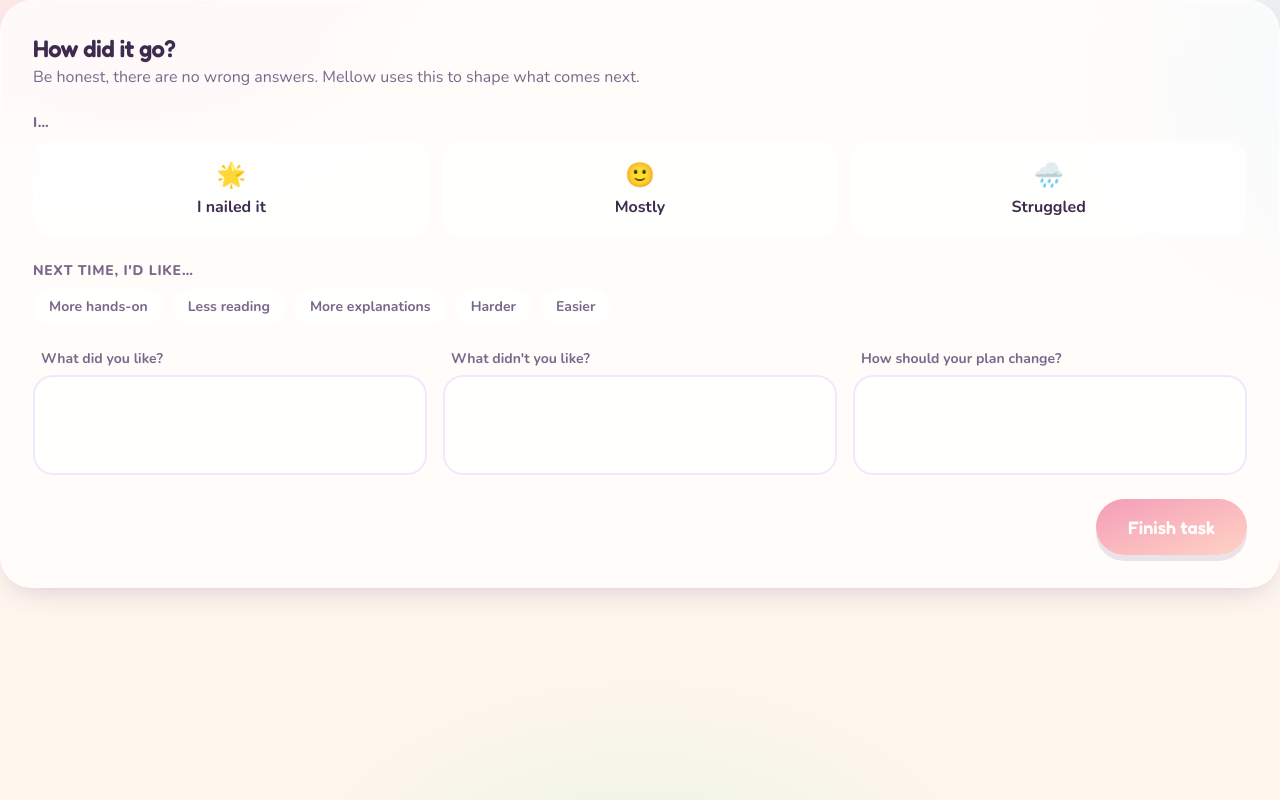
Test: ReflectionForm › toggles chips off again
Step 1. Click the button "Harder" → click(493, 307), box top-left (455, 289), bottom-right (532, 325)
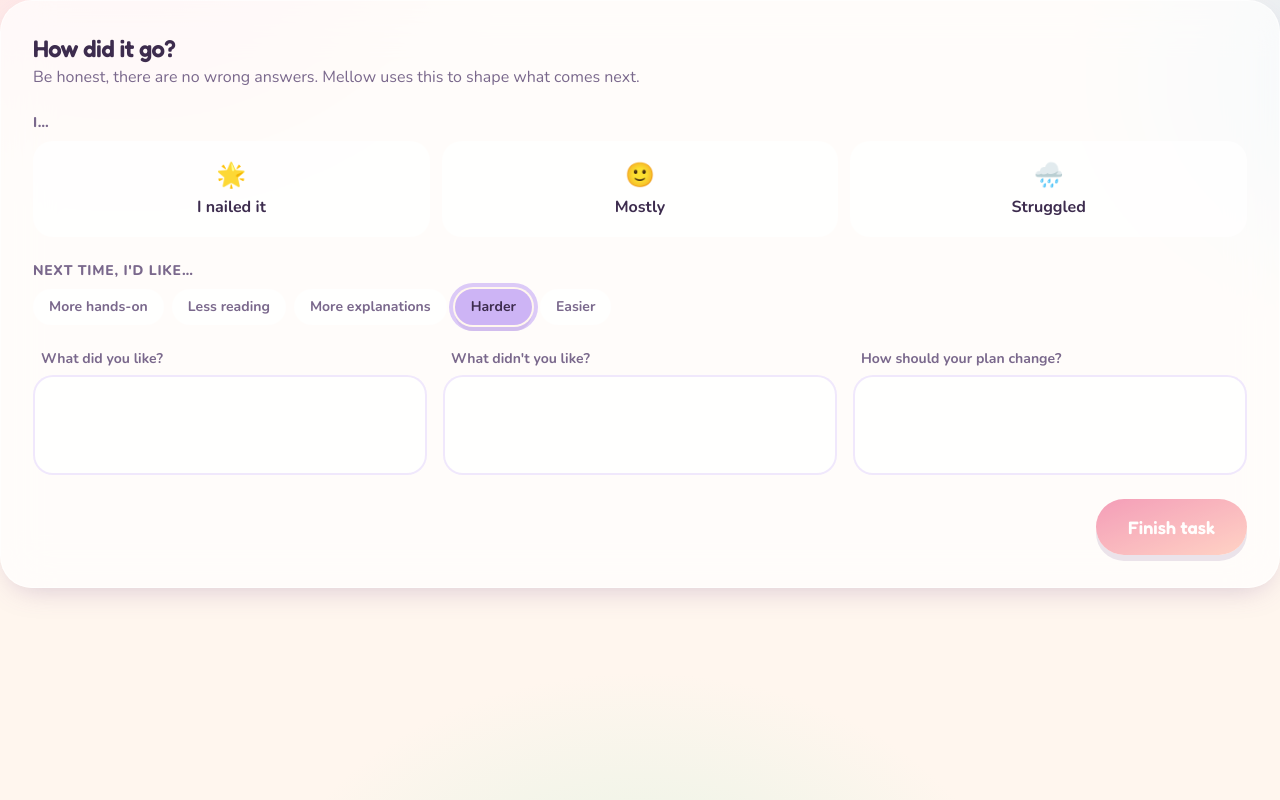
Expected: the button "Harder" is pressed
Step 2. Click the button "Harder" → click(493, 307), box top-left (455, 289), bottom-right (532, 325)
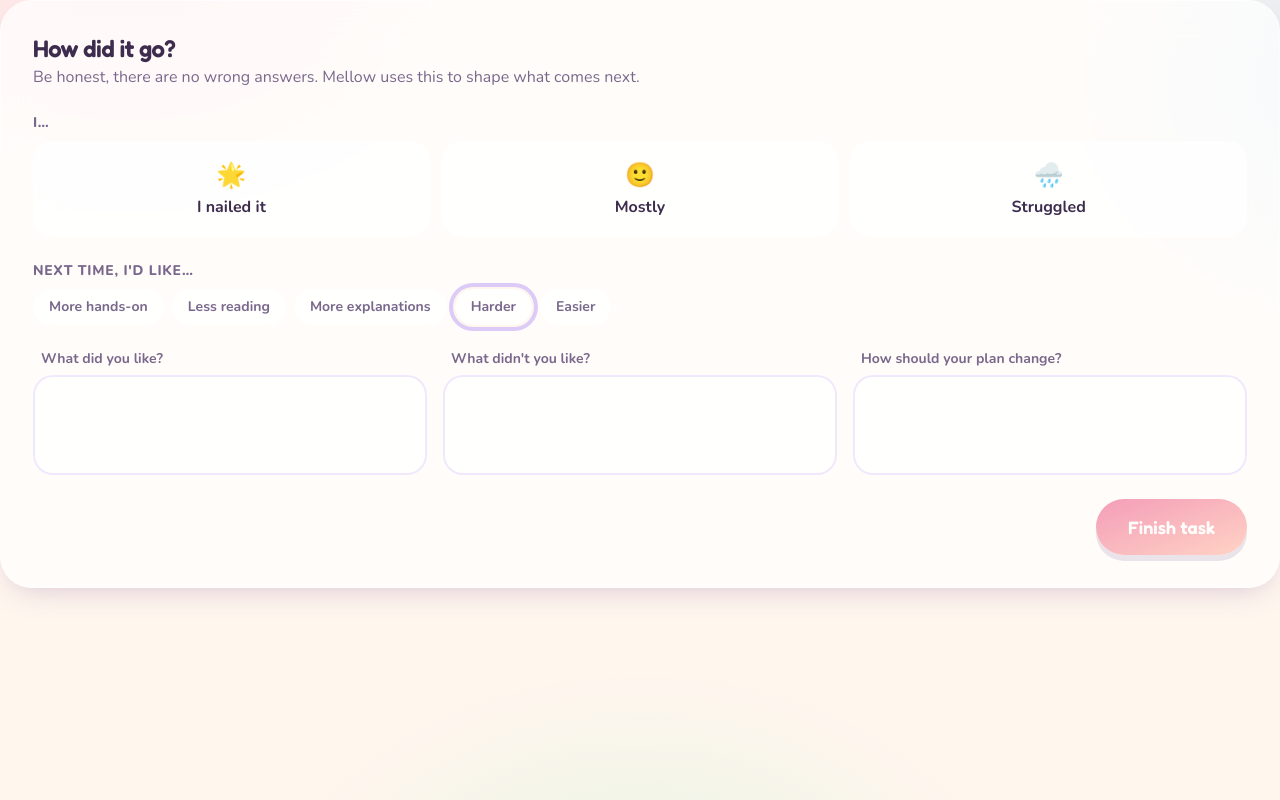
Expected: the button "Harder" is not pressed, top-left (455, 289), bottom-right (532, 325)
